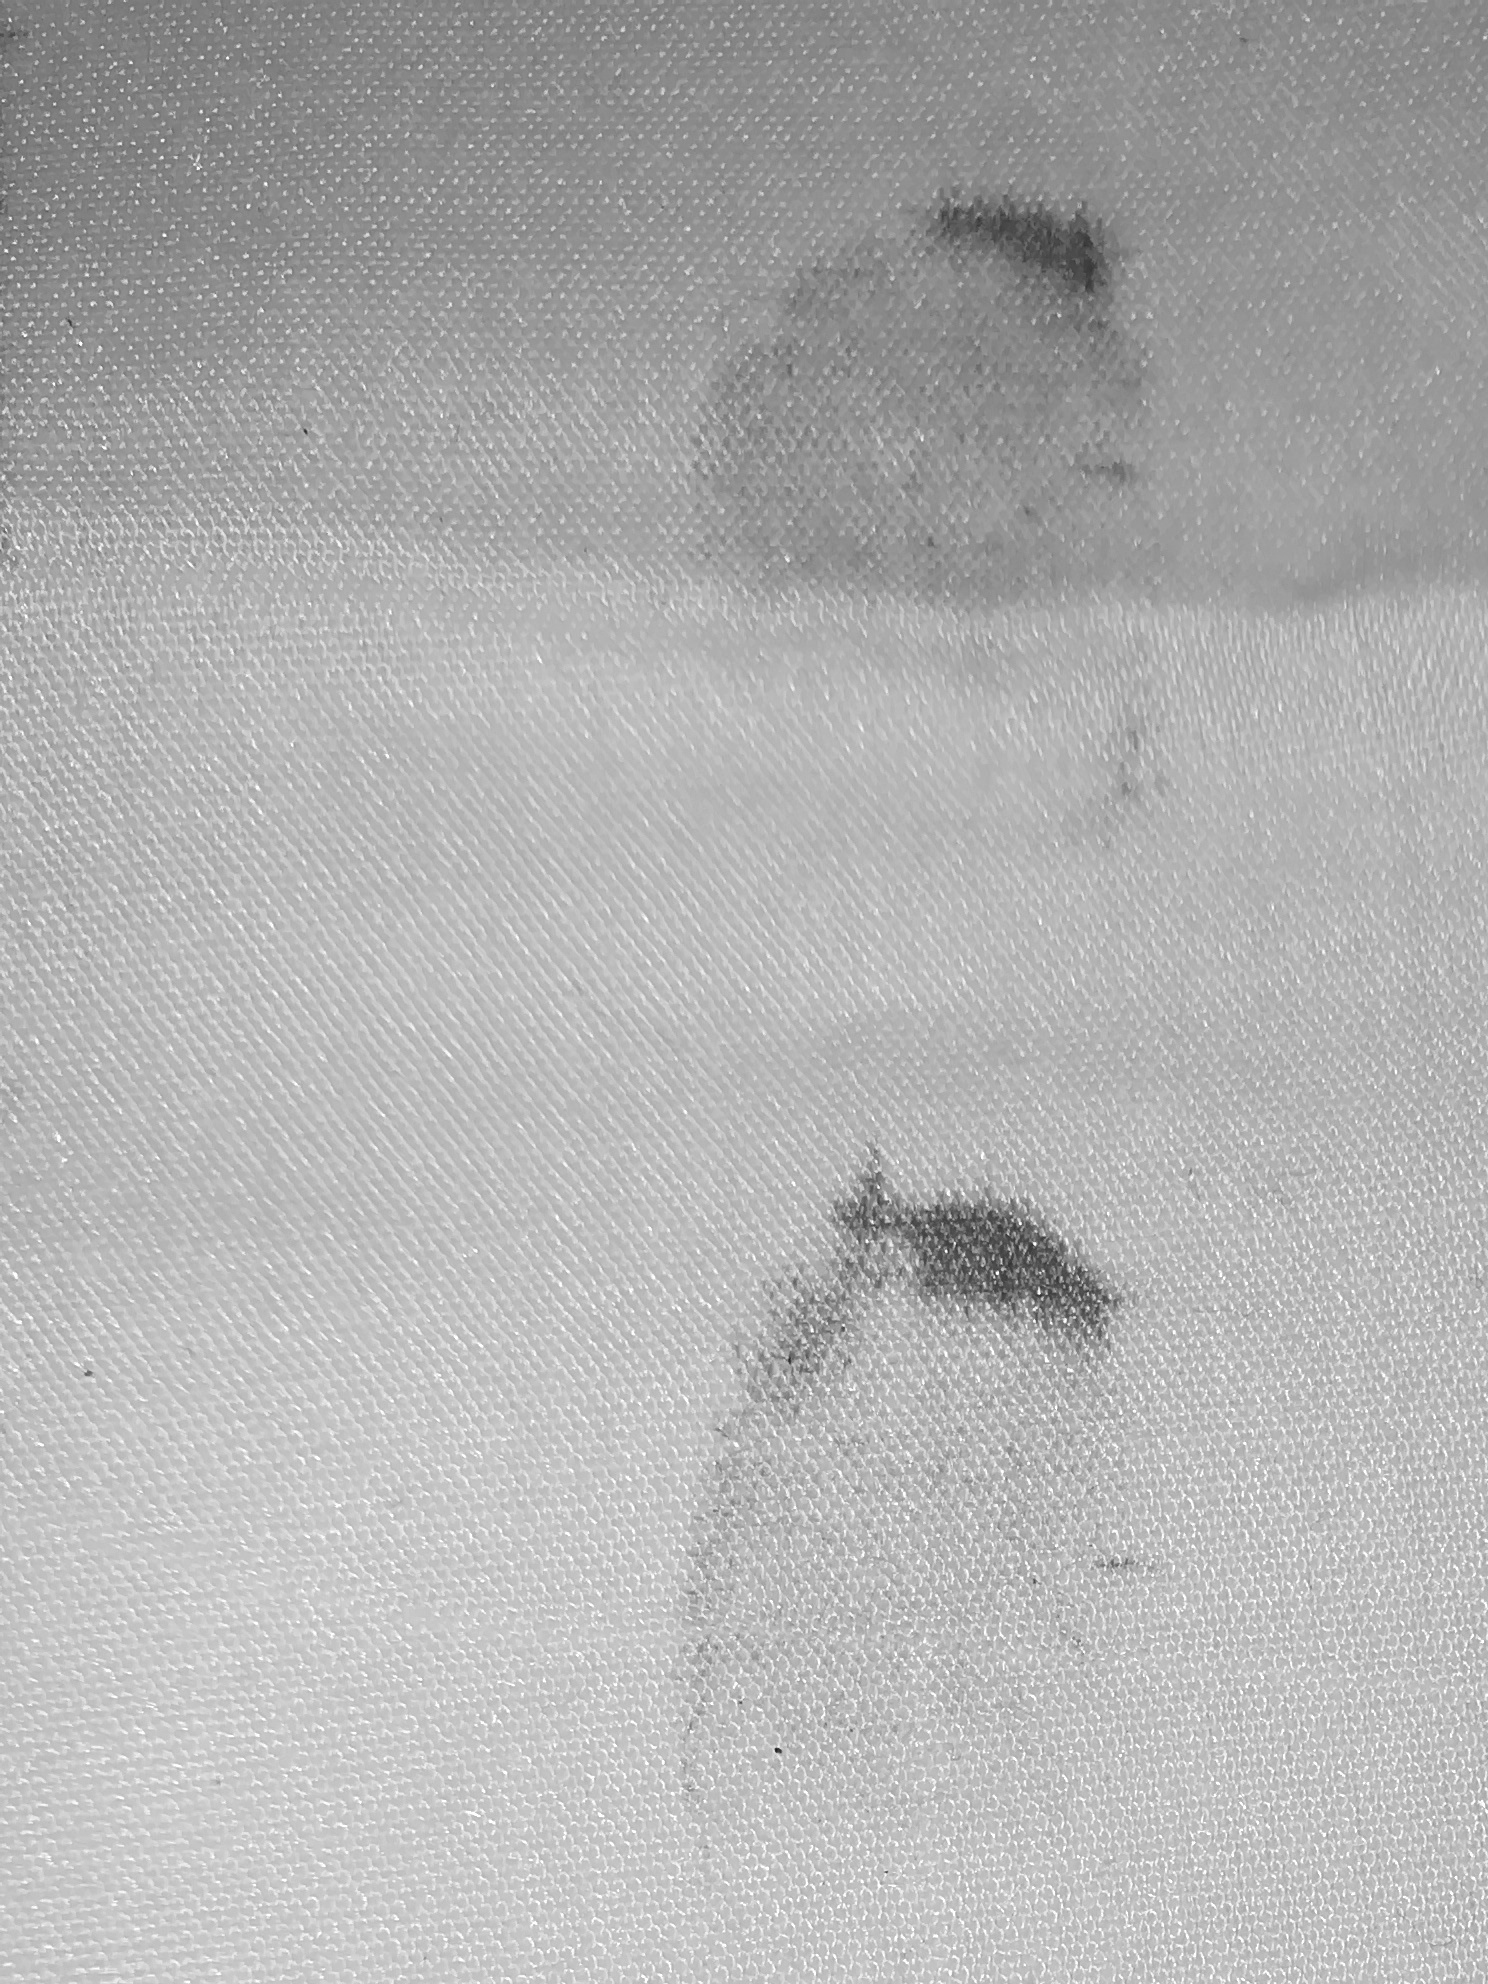Stain: (633, 122, 1311, 831), (571, 1019, 1271, 1531)
